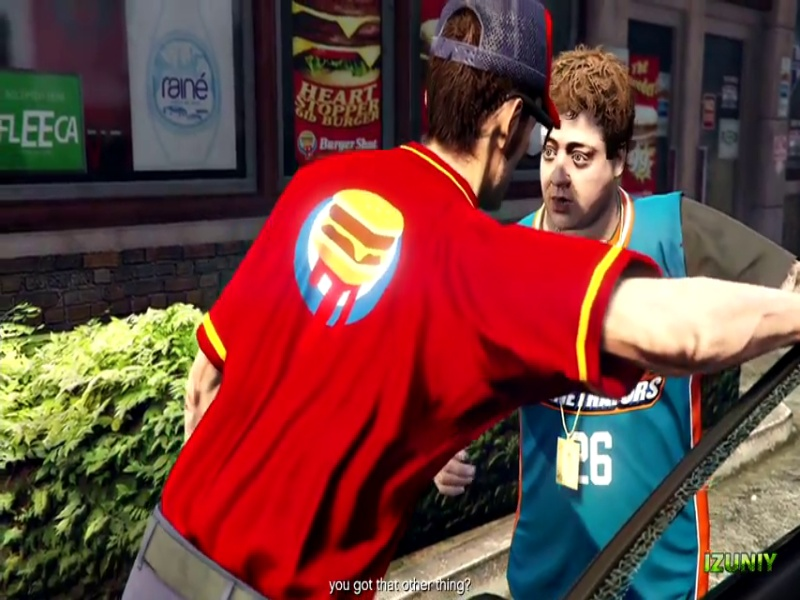human: (523, 35, 775, 294)
